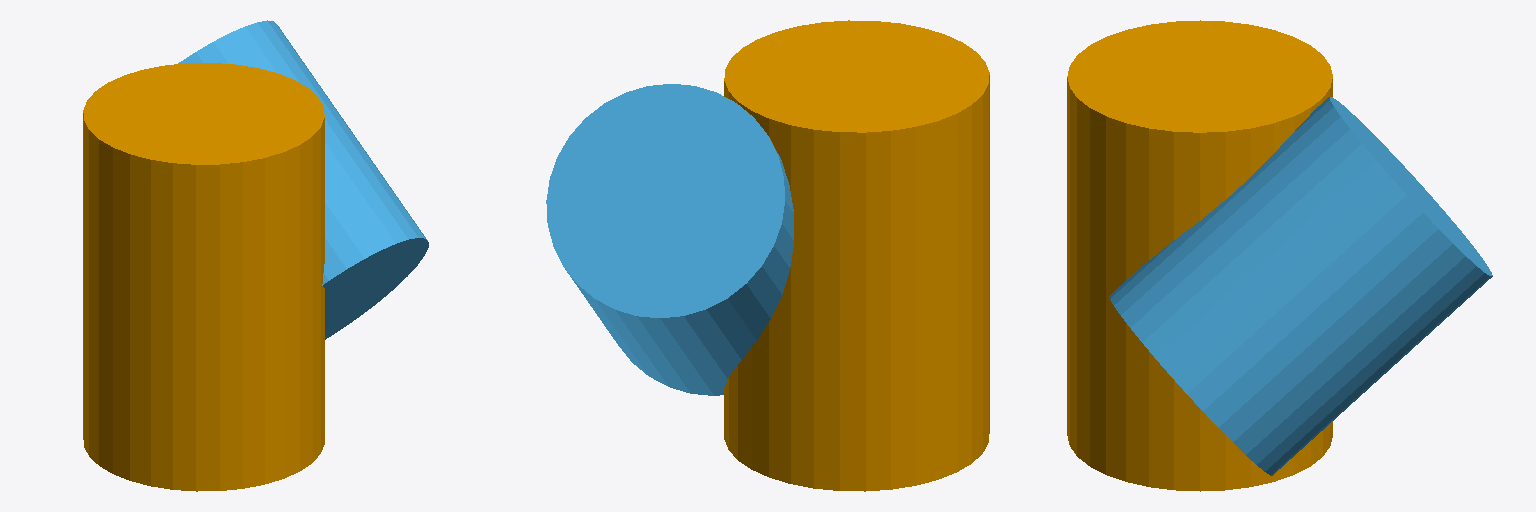
robot.urdf — pepe:
<?xml version="1.0"?><robot name="pepe">
	<link name="0">
		<visual>
			<geometry>
				<cylinder length="2.9780468539074367" radius="0.9999"/>
			</geometry>
		</visual>
		<collision>
			<geometry>
				<cylinder length="2.9780468539074367" radius="0.9999"/>
			</geometry>
		</collision>
		<inertial>
			<mass value="9.353939049816244"/>
			<inertia ixx="0.03" iyy="0.03" izz="0.03" ixy="0" ixz="0" iyx="0"/>
		</inertial>
	</link>
	<link name="11">
		<visual>
			<geometry>
				<cylinder length="2.239322960223905" radius="0.91463215315025"/>
			</geometry>
		</visual>
		<collision>
			<geometry>
				<cylinder length="2.239322960223905" radius="0.91463215315025"/>
			</geometry>
		</collision>
		<inertial>
			<mass value="5.88517707944186"/>
			<inertia ixx="0.03" iyy="0.03" izz="0.03" ixy="0" ixz="0" iyx="0"/>
		</inertial>
	</link>
	<joint name="11_to_0" type="revolute">
		<parent link="0"/>
		<child link="11"/>
		<axis xyz="0 1 0"/>
		<limit effort="1" upper="-3.1415" lower="3.1415" velocity="1"/>
		<origin rpy="5.953892614825331 2.3091242109237364 4.565535475433961" xyz="0.9874050881523041 0.7587390752005604 0.21020597699549604"/>
	</joint>
</robot>

--- Facts derived from the render (not from the file) ---
Views: 3 orthographic renders of the robot side by side, from view 1: azimuth 30°, elevation 25°; view 2: azimuth 150°, elevation 25°; view 3: azimuth 270°, elevation 25°.
Robot: pepe — 2 links, 1 joints (1 revolute); root link 0; default pose: every joint at zero.
Links seen in each view (by area): view 1: 0, 11; view 2: 0, 11; view 3: 11, 0.
Boxes of the visible links, x1=… form: 0: x1=83, y1=63, x2=324, y2=491; 11: x1=178, y1=20, x2=428, y2=339; 0: x1=724, y1=20, x2=989, y2=491; 11: x1=546, y1=84, x2=793, y2=395; 11: x1=1109, y1=97, x2=1492, y2=475; 0: x1=1067, y1=20, x2=1332, y2=491.
Bounding box of the posed robot: 3.12 × 3.2 × 3.11 m (x, y, z).
Geometry: primitives only (box / cylinder / sphere), no mesh files.
